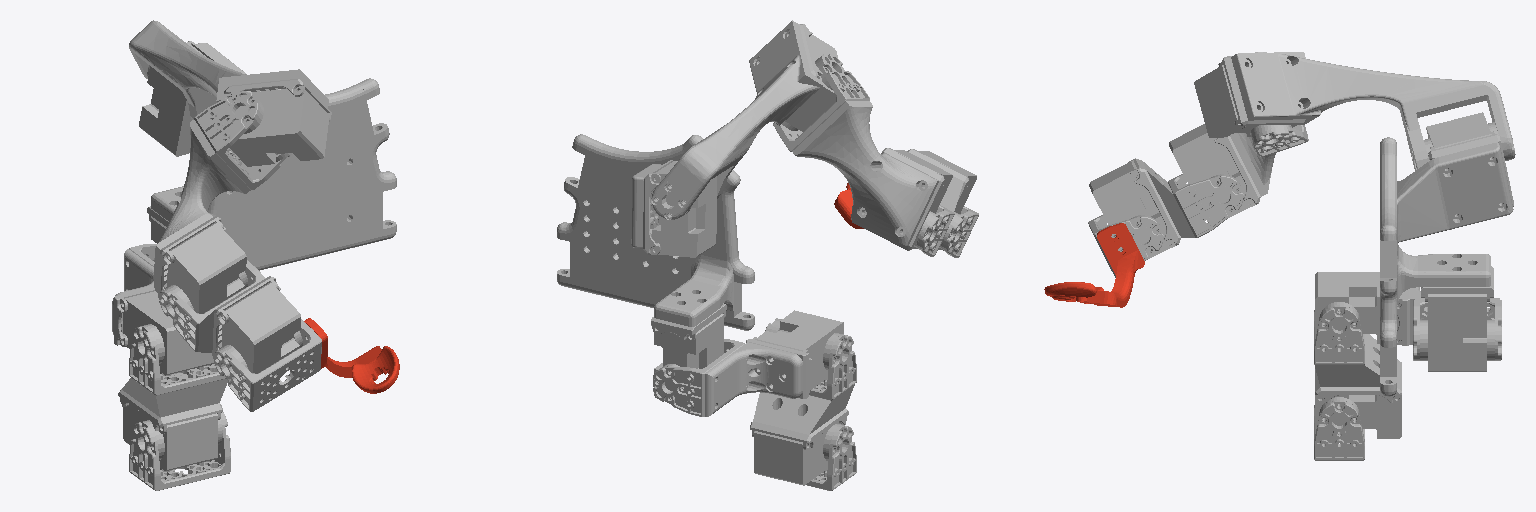
URDF robot description (ditto_leader_2f):
<?xml version='1.0' encoding='utf-8'?>
<robot name="ditto_leader_2f">
  <!-- Built by ditto_gello_development/scripts/build_ditto_leader_urdfs.py from the SolidWorks export ditto_leader_urdf_4dof_thumb (index and thumb only). Drop-in for roamlab/ditto reverse_teleop assets/urdf/ditto_leader_7dof: root hand_piece in the same frame, same joint names, zeros and directions (the export's thumb1 and thumb4 zeros corrected so each part's screw holes sit on its XC330 horn's at zero). Joint limits on index1-3 and thumb1-4: ditto 7dof_f02 follower limits. -->
  <link name="hand_piece">
    <inertial>
      <origin xyz="0.00306629158 0.05206754619 -0.02295305992" rpy="-1.570796327 0 3.141592654" />
      <mass value="0.0833211952650804" />
      <inertia ixx="3.31172694214417E-05" ixy="7.28985620728082E-07" ixz="4.10611672088654E-06" iyy="3.13694915845556E-05" iyz="-3.04082055921108E-06" izz="4.76920282565564E-05" />
    </inertial>
    <visual>
      <origin xyz="-0.01214814623 0.0636128 -0.06877882933" rpy="-1.570796327 0 3.141592654" />
      <geometry>
        <mesh filename="meshes/base_link.STL" />
      </geometry>
      <material name="body">
        <color rgba="0.75 0.75 0.75 1" />
      </material>
    </visual>
    <collision>
      <origin xyz="-0.01214814623 0.0636128 -0.06877882933" rpy="-1.570796327 0 3.141592654" />
      <geometry>
        <mesh filename="meshes/base_link.STL" />
      </geometry>
    </collision>
  </link>
  <link name="index_link_0">
    <inertial>
      <origin xyz="0.0271735387 3.03e-09 0.00350542388" rpy="0 0 0" />
      <mass value="0.0234290807402588" />
      <inertia ixx="3.11468553842293E-06" ixy="-1.63639517838512E-13" ixz="-2.1506879881659E-07" iyy="3.56962661403034E-06" iyz="-2.93292358226171E-13" izz="1.91839577955842E-06" />
    </inertial>
    <visual>
      <origin xyz="0 0 -0.0255003" rpy="0 0 0" />
      <geometry>
        <mesh filename="meshes/index_link_0.STL" />
      </geometry>
      <material name="body">
        <color rgba="0.75 0.75 0.75 1" />
      </material>
    </visual>
    <collision>
      <origin xyz="0 0 -0.0255003" rpy="0 0 0" />
      <geometry>
        <mesh filename="meshes/index_link_0.STL" />
      </geometry>
    </collision>
  </link>
  <joint name="index1" type="revolute">
    <origin xyz="-0.01214814622 0.0381125 -0.06877882934" rpy="-1.570796327 0 -3.141592653" />
    <parent link="hand_piece" />
    <child link="index_link_0" />
    <axis xyz="0 0 1" />
    <limit lower="-0.226893" upper="0.418879" effort="10" velocity="4.8" />
  </joint>
  <link name="index_link_1">
    <inertial>
      <origin xyz="0.03248672582 -0.00549943022 0.01750933357" rpy="0 0 0" />
      <mass value="0.0277581841607585" />
      <inertia ixx="4.11454234312938E-06" ixy="4.96840161489649E-08" ixz="1.58829402827679E-13" iyy="2.57034877332712E-06" iyz="-4.28535395323684E-08" izz="2.91638603075459E-06" />
    </inertial>
    <visual>
      <origin xyz="0 0 0.0173" rpy="0 0 0" />
      <geometry>
        <mesh filename="meshes/index_link_1.STL" />
      </geometry>
      <material name="body">
        <color rgba="0.75 0.75 0.75 1" />
      </material>
    </visual>
    <collision>
      <origin xyz="0 0 0.0173" rpy="0 0 0" />
      <geometry>
        <mesh filename="meshes/index_link_1.STL" />
      </geometry>
    </collision>
  </link>
  <joint name="index2" type="revolute">
    <origin xyz="0.0127 0 0.0204997" rpy="1.570796327 0 1.570796327" />
    <parent link="index_link_0" />
    <child link="index_link_1" />
    <axis xyz="0 0 1" />
    <limit lower="-0.174533" upper="1.570796" effort="10" velocity="4.8" />
  </joint>
  <link name="index_link_2">
    <inertial>
      <origin xyz="0.0100768333 0 0.0173" rpy="0 0 0" />
      <mass value="0.00252674876938613" />
      <inertia ixx="5.37570168949988E-07" ixy="2.36900307380654E-18" ixz="-2.68581527327795E-17" iyy="5.77184540925893E-07" iyz="2.72602499063971E-18" izz="2.1332062555457E-07" />
    </inertial>
    <visual>
      <origin xyz="0 0 0.0173" rpy="0 0 0" />
      <geometry>
        <mesh filename="meshes/index_link_2.STL" />
      </geometry>
      <material name="body">
        <color rgba="0.75 0.75 0.75 1" />
      </material>
    </visual>
    <collision>
      <origin xyz="0 0 0.0173" rpy="0 0 0" />
      <geometry>
        <mesh filename="meshes/index_link_2.STL" />
      </geometry>
    </collision>
  </link>
  <joint name="index3" type="revolute">
    <origin xyz="0.041 0 0" rpy="0 0 0" />
    <parent link="index_link_1" />
    <child link="index_link_2" />
    <axis xyz="0 0 1" />
    <limit lower="-0.174533" upper="1.570796" effort="10" velocity="4.8" />
  </joint>
  <link name="index_fingerpad">
    <inertial>
      <origin xyz="-0.0143776185083976 -0.00237508977995729 -0.00159388555076875" rpy="0 0 0" />
      <mass value="0.00293503370588174" />
      <inertia ixx="1.33921399649439E-07" ixy="-4.95796337669068E-08" ixz="-3.54546635157622E-08" iyy="3.38296975785304E-07" iyz="-3.08234193737214E-08" izz="3.773005890882E-07" />
    </inertial>
    <visual>
      <origin xyz="0 0 0" rpy="0 0 0" />
      <geometry>
        <mesh filename="meshes/index_fingerpad.STL" />
      </geometry>
      <material name="fingerpad">
        <color rgba="0.9 0.3 0.2 1" />
      </material>
    </visual>
    <collision>
      <origin xyz="0 0 0" rpy="0 0 0" />
      <geometry>
        <mesh filename="meshes/index_fingerpad.STL" />
      </geometry>
    </collision>
  </link>
  <joint name="index_fingerpad_joint" type="fixed">
    <origin xyz="0.0322 0.007 -0.0105" rpy="-1.570796327 0 0" />
    <parent link="index_link_2" />
    <child link="index_fingerpad" />
  </joint>
  <link name="index_fingertip">
    <inertial>
      <origin xyz="-0.0120007934801966 -1.08413846944575E-09 -0.0159446563569806" rpy="0 0 0" />
      <mass value="0.001277690145621" />
      <inertia ixx="7.45331842074059E-08" ixy="2.961341611503E-15" ixz="3.41868390401979E-09" iyy="5.23842023487626E-08" iyz="-3.61474000193815E-15" izz="7.17532328797171E-08" />
    </inertial>
    <visual>
      <origin xyz="0 0 0" rpy="0 0 0" />
      <geometry>
        <mesh filename="meshes/index_fingertip.STL" />
      </geometry>
      <material name="fingertip">
        <color rgba="0.35 0.35 0.38 1" />
      </material>
    </visual>
    <collision>
      <origin xyz="0 0 0" rpy="0 0 0" />
      <geometry>
        <mesh filename="meshes/index_fingertip.STL" />
      </geometry>
    </collision>
  </link>
  <joint name="index_fingertip_joint" type="fixed">
    <origin xyz="0.032379 0.014279 0.0173" rpy="-1.5708 0 0" />
    <parent link="index_link_2" />
    <child link="index_fingertip" />
  </joint>
  <link name="thumb_link_0">
    <inertial>
      <origin xyz="0.02760315232 0.02003878265 -0.01733677845" rpy="0 0 0" />
      <mass value="0.0360287569844993" />
      <inertia ixx="1.75304183230735E-05" ixy="-1.30640778835037E-06" ixz="-5.54910026754764E-06" iyy="1.91614838037545E-05" iyz="-1.7245418072391E-06" izz="6.16754295627566E-06" />
    </inertial>
    <visual>
      <origin xyz="0 0 -0.068129" rpy="0 0 0" />
      <geometry>
        <mesh filename="meshes/thumb_link_0.STL" />
      </geometry>
      <material name="body">
        <color rgba="0.75 0.75 0.75 1" />
      </material>
    </visual>
    <collision>
      <origin xyz="0 0 -0.068129" rpy="0 0 0" />
      <geometry>
        <mesh filename="meshes/thumb_link_0.STL" />
      </geometry>
    </collision>
  </link>
  <joint name="thumb1" type="revolute">
    <origin xyz="4.7785e-07 7.79e-08 -2.1486e-07" rpy="2.82287672 -1.365196184 -1.075225889" />
    <parent link="hand_piece" />
    <child link="thumb_link_0" />
    <axis xyz="0 0 1" />
    <limit lower="-0.436332" upper="0.523599" effort="10" velocity="4.8" />
  </joint>
  <link name="thumb_link_1">
    <inertial>
      <origin xyz="0.04156519421 0.02306483634 0.00951132778" rpy="0 0 0" />
      <mass value="0.0337789988448157" />
      <inertia ixx="4.61511922161962E-06" ixy="-1.59805605636466E-06" ixz="7.95780703305186E-07" iyy="6.53418204794704E-06" iyz="6.1748310235914E-08" izz="5.66157707028981E-06" />
    </inertial>
    <visual>
      <origin xyz="0 0 0.0230344" rpy="0 0 0" />
      <geometry>
        <mesh filename="meshes/thumb_link_1.STL" />
      </geometry>
      <material name="body">
        <color rgba="0.75 0.75 0.75 1" />
      </material>
    </visual>
    <collision>
      <origin xyz="0 0 0.0230344" rpy="0 0 0" />
      <geometry>
        <mesh filename="meshes/thumb_link_1.STL" />
      </geometry>
    </collision>
  </link>
  <joint name="thumb2" type="revolute">
    <origin xyz="0.01754872884 0.01775727876 0.00240506541" rpy="1.5708 -0.68717 2.3621" />
    <parent link="thumb_link_0" />
    <child link="thumb_link_1" />
    <axis xyz="0 0 1" />
    <limit lower="-1.570796" upper="-0.349066" effort="10" velocity="4.8" />
  </joint>
  <link name="thumb_link_2">
    <inertial>
      <origin xyz="0.02929473931 0.00579498426 0.00024681306" rpy="0 0 0" />
      <mass value="0.0235045651220368" />
      <inertia ixx="3.56323790691382E-06" ixy="-1.01749703801374E-08" ixz="2.03582390256546E-16" iyy="2.18948897754425E-06" iyz="4.28549435861432E-08" izz="2.60810652651659E-06" />
    </inertial>
    <visual>
      <origin xyz="0 0 0.0079996" rpy="0 0 0" />
      <geometry>
        <mesh filename="meshes/thumb_link_2.STL" />
      </geometry>
      <material name="body">
        <color rgba="0.75 0.75 0.75 1" />
      </material>
    </visual>
    <collision>
      <origin xyz="0 0 0.0079996" rpy="0 0 0" />
      <geometry>
        <mesh filename="meshes/thumb_link_2.STL" />
      </geometry>
    </collision>
  </link>
  <joint name="thumb3" type="revolute">
    <origin xyz="0.05212376619 0.03619052244 -3.7773e-07" rpy="1.144488731 0.1949461792 1.710500859" />
    <parent link="thumb_link_1" />
    <child link="thumb_link_2" />
    <axis xyz="0 0 1" />
    <limit lower="-1.570796" upper="0.174533" effort="10" velocity="4.8" />
  </joint>
  <link name="thumb_link_3">
    <inertial>
      <origin xyz="0.0100767406 -4.319501e-05 -7.9997e-07" rpy="0 0 0" />
      <mass value="0.00252674889438426" />
      <inertia ixx="5.37570898003087E-07" ixy="1.69807278639517E-10" ixz="3.80974624354385E-16" iyy="5.77183813886022E-07" iyz="-4.02357292819717E-17" izz="2.1332062636305E-07" />
    </inertial>
    <visual>
      <origin xyz="0 0 0.0079992" rpy="0 0 0" />
      <geometry>
        <mesh filename="meshes/thumb_link_3.STL" />
      </geometry>
      <material name="body">
        <color rgba="0.75 0.75 0.75 1" />
      </material>
    </visual>
    <collision>
      <origin xyz="0 0 0.0079992" rpy="0 0 0" />
      <geometry>
        <mesh filename="meshes/thumb_link_3.STL" />
      </geometry>
    </collision>
  </link>
  <joint name="thumb4" type="revolute">
    <origin xyz="0.035 0 4e-07" rpy="0 0 0.00428652864" />
    <parent link="thumb_link_2" />
    <child link="thumb_link_3" />
    <axis xyz="0 0 1" />
    <limit lower="-1.570796" upper="0.174533" effort="10" velocity="4.8" />
  </joint>
  <link name="thumb_fingerpad">
    <inertial>
      <origin xyz="-0.00872390099835438 0.00591950501232824 -0.00537464637345676" rpy="0 0 0" />
      <mass value="0.00273977118217093" />
      <inertia ixx="2.91978087929543E-07" ixy="9.70777337547777E-09" ixz="8.60983354636815E-09" iyy="2.36304105033026E-07" iyz="8.344046615217E-08" izz="1.70851418163156E-07" />
    </inertial>
    <visual>
      <origin xyz="0 0 0" rpy="0 0 0" />
      <geometry>
        <mesh filename="meshes/thumb_fingerpad.STL" />
      </geometry>
      <material name="fingerpad">
        <color rgba="0.9 0.3 0.2 1" />
      </material>
    </visual>
    <collision>
      <origin xyz="0 0 0" rpy="0 0 0" />
      <geometry>
        <mesh filename="meshes/thumb_fingerpad.STL" />
      </geometry>
    </collision>
  </link>
  <joint name="thumb_fingerpad_joint" type="fixed">
    <origin xyz="0.03397825482 -0.00514569714 -0.0318008" rpy="1.806668259 -0.3794981363 0.4988140793" />
    <parent link="thumb_link_3" />
    <child link="thumb_fingerpad" />
  </joint>
  <link name="thumb_fingertip">
    <inertial>
      <origin xyz="-0.0120007743591476 -2.96880624250928E-10 -0.0159446780590514" rpy="0 0 0" />
      <mass value="0.00127770829696998" />
      <inertia ixx="7.45332645553816E-08" ixy="6.5040795383595E-15" ixz="3.4187449796018E-09" iyy="5.23841803163401E-08" iyz="6.78850515875001E-15" izz="7.17532160153854E-08" />
    </inertial>
    <visual>
      <origin xyz="0 0 0" rpy="0 0 0" />
      <geometry>
        <mesh filename="meshes/thumb_fingertip.STL" />
      </geometry>
      <material name="fingertip">
        <color rgba="0.35 0.35 0.38 1" />
      </material>
    </visual>
    <collision>
      <origin xyz="0 0 0" rpy="0 0 0" />
      <geometry>
        <mesh filename="meshes/thumb_fingertip.STL" />
      </geometry>
    </collision>
  </link>
  <joint name="thumb_fingertip_joint" type="fixed">
    <origin xyz="0.03231725598 -0.01441772081 -8e-07" rpy="1.570796327 0 -0.0042865742" />
    <parent link="thumb_link_3" />
    <child link="thumb_fingertip" />
  </joint>
  <link name="tcp" />
  <joint name="tcp_joint" type="fixed">
    <origin xyz="-0.04214814623 0.0685128 0.00622117067" rpy="1.570796327 0 0" />
    <parent link="hand_piece" />
    <child link="tcp" />
  </joint>
</robot>

--- Render facts (derived) ---
Views: 3 orthographic renders of the robot side by side, from view 1: azimuth 30°, elevation 25°; view 2: azimuth 150°, elevation 25°; view 3: azimuth 270°, elevation 25°.
Robot: ditto_leader_2f — 13 links, 12 joints (7 revolute, 5 fixed); root link hand_piece; default pose: all joints at 0 but 1 set to mid-range because 0 is outside their limits (thumb2 = -0.9599).
Links seen in each view (by area): view 1: hand_piece, thumb_link_1, thumb_link_0, index_link_1, thumb_link_2, index_link_0, thumb_link_3, index_link_2, thumb_fingerpad; view 2: hand_piece, thumb_link_1, thumb_link_0, index_link_0, index_link_1, thumb_link_2, index_link_2, thumb_link_3; view 3: hand_piece, thumb_link_0, thumb_link_2, index_link_1, thumb_link_1, index_link_0, thumb_fingerpad, index_link_2, thumb_link_3.
Boxes of the visible links, bbox=[...] form: hand_piece: bbox=[139, 41, 396, 270]; thumb_link_1: bbox=[154, 91, 291, 313]; thumb_link_0: bbox=[129, 20, 331, 166]; index_link_1: bbox=[118, 326, 227, 470]; thumb_link_2: bbox=[159, 260, 302, 373]; index_link_0: bbox=[112, 244, 213, 375]; thumb_link_3: bbox=[214, 319, 321, 411]; index_link_2: bbox=[129, 412, 230, 490]; thumb_fingerpad: bbox=[304, 318, 399, 393]; hand_piece: bbox=[557, 134, 754, 399]; thumb_link_1: bbox=[773, 54, 952, 250]; thumb_link_0: bbox=[651, 20, 837, 219]; index_link_0: bbox=[653, 310, 843, 416]; index_link_1: bbox=[750, 318, 856, 485]; thumb_link_2: bbox=[852, 149, 976, 256]; index_link_2: bbox=[806, 425, 856, 490]; thumb_link_3: bbox=[942, 206, 978, 257]; hand_piece: bbox=[1380, 112, 1513, 396]; thumb_link_0: bbox=[1194, 52, 1515, 170]; thumb_link_2: bbox=[1089, 158, 1243, 258]; index_link_1: bbox=[1314, 305, 1401, 438]; thumb_link_1: bbox=[1169, 52, 1308, 221]; index_link_0: bbox=[1315, 272, 1501, 360]; thumb_fingerpad: bbox=[1044, 223, 1144, 307]; index_link_2: bbox=[1314, 400, 1364, 460]; thumb_link_3: bbox=[1088, 215, 1163, 277].
Bounding box of the posed robot: 0.1437 × 0.1838 × 0.1819 m (x, y, z).
9 mesh visuals loaded from 12 distinct referenced files (9 binary STL); not drawn: 3 (reference not matched to a file when rendering).
